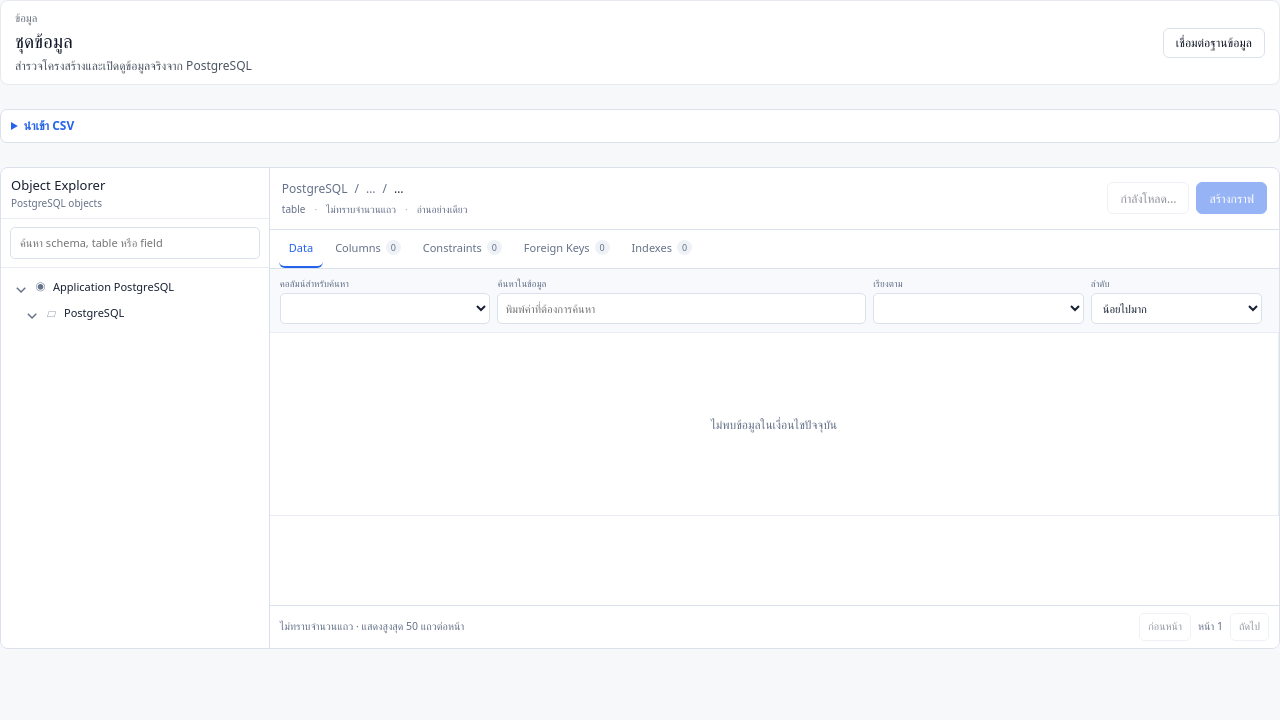
Scenario: DatasetsPage project ownership › shows API-backed structure tabs without duplicating the data preview
Click the tab "Indexes 0".
click(662, 249)  # box [622, 230, 702, 268]
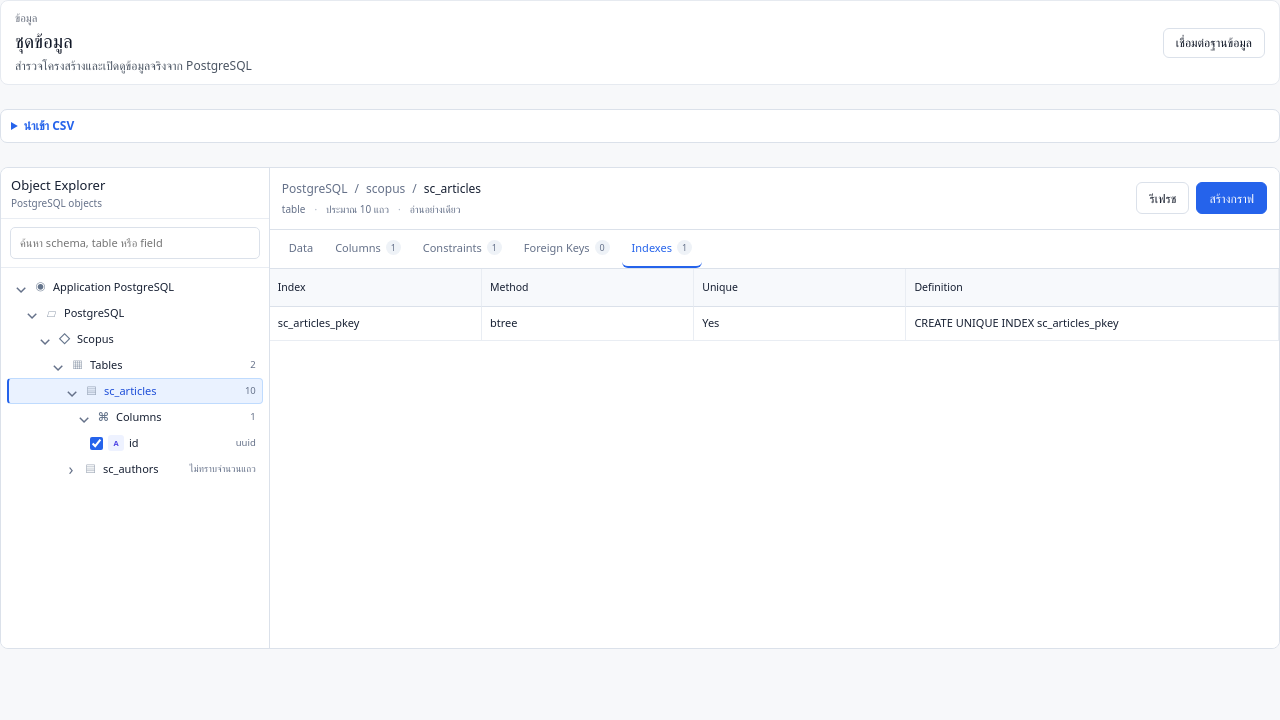
Expected: the text "sc_articles_pkey" is shown, [270, 307, 482, 341]
